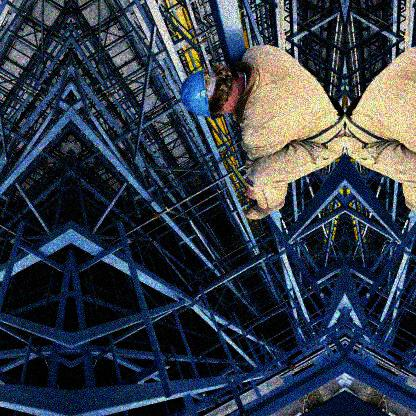helmet: (177, 71, 243, 122)
